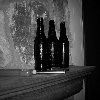beer: (32, 12, 49, 73)
